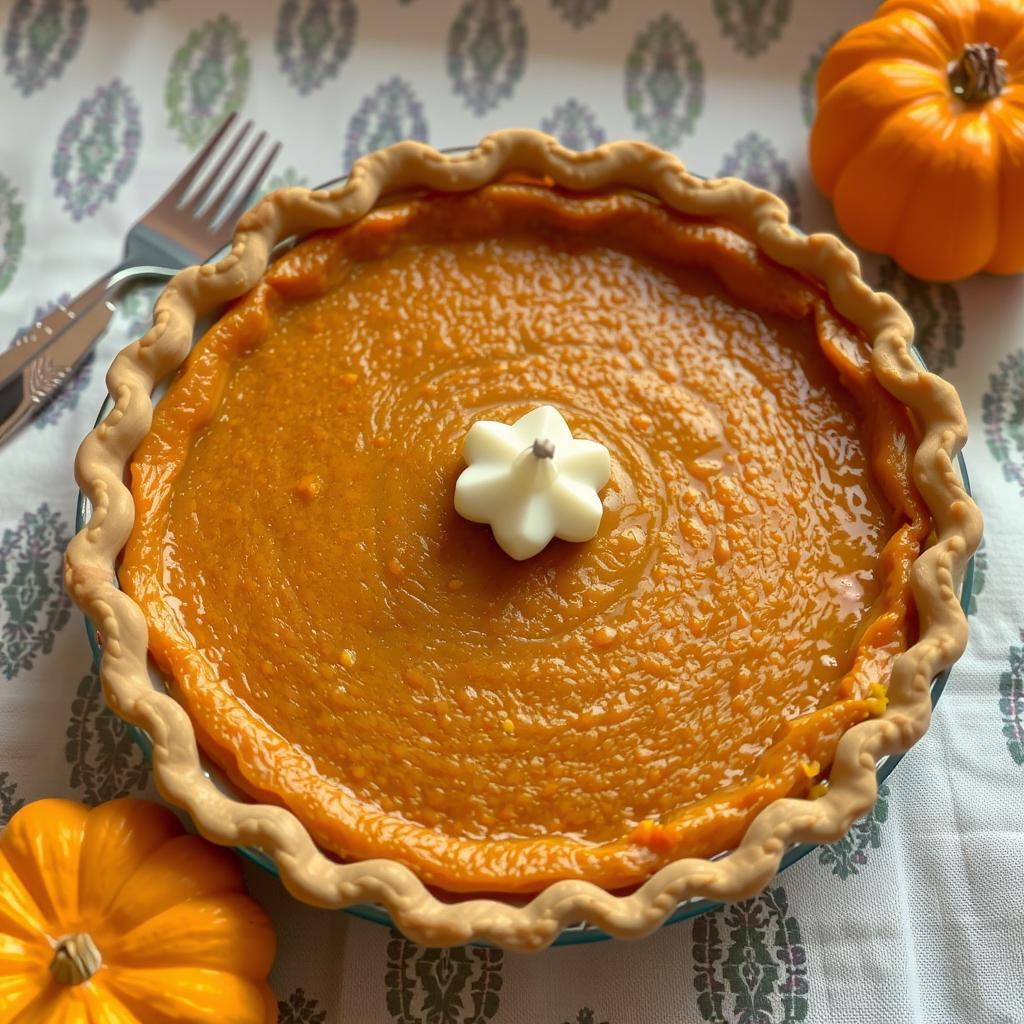pie: (59, 109, 996, 951)
